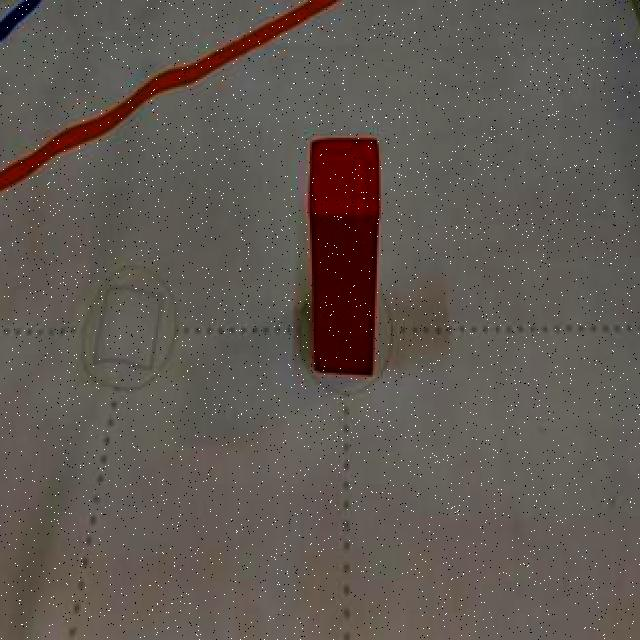redbox: (306, 136, 383, 377)
